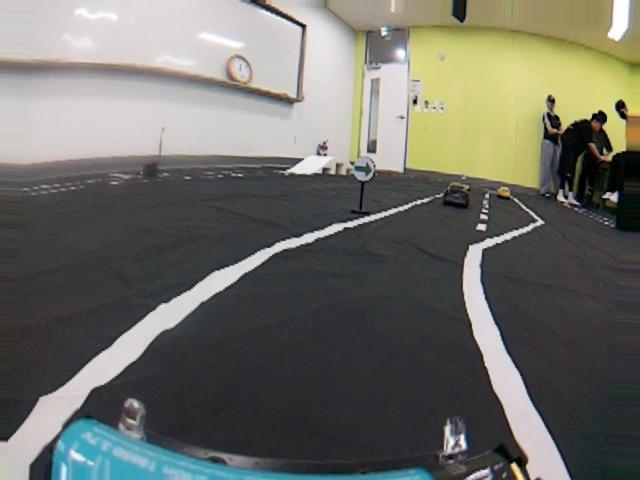car: (440, 184, 473, 206), (496, 182, 515, 199)
right: (4, 188, 640, 480)
sign_right: (353, 156, 376, 182)
